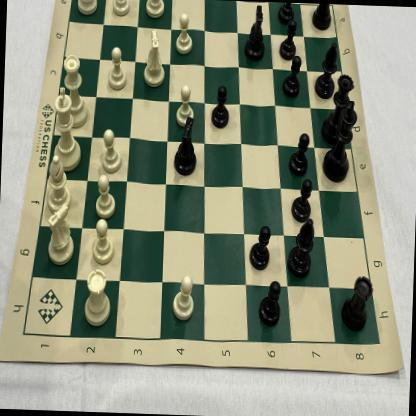bishop: (44, 154, 74, 216), (288, 219, 314, 280), (314, 40, 338, 101), (142, 0, 168, 21)
king: (48, 85, 84, 173), (323, 99, 356, 183)
knight: (44, 203, 78, 266), (140, 29, 168, 88), (172, 118, 198, 176), (244, 3, 267, 62)
pawn: (90, 219, 117, 266), (258, 278, 282, 328), (171, 274, 196, 322), (247, 224, 271, 272), (287, 132, 310, 177), (100, 127, 122, 174), (291, 180, 314, 224), (94, 174, 116, 218), (174, 83, 196, 127), (107, 45, 128, 91), (280, 53, 301, 98), (210, 83, 230, 130), (173, 13, 194, 56), (279, 22, 298, 60), (110, 0, 133, 21), (276, 2, 297, 24)
queen: (56, 53, 91, 128), (322, 74, 354, 143)
rook: (340, 272, 374, 334), (81, 268, 113, 328), (311, 4, 334, 34), (73, 0, 100, 18)
